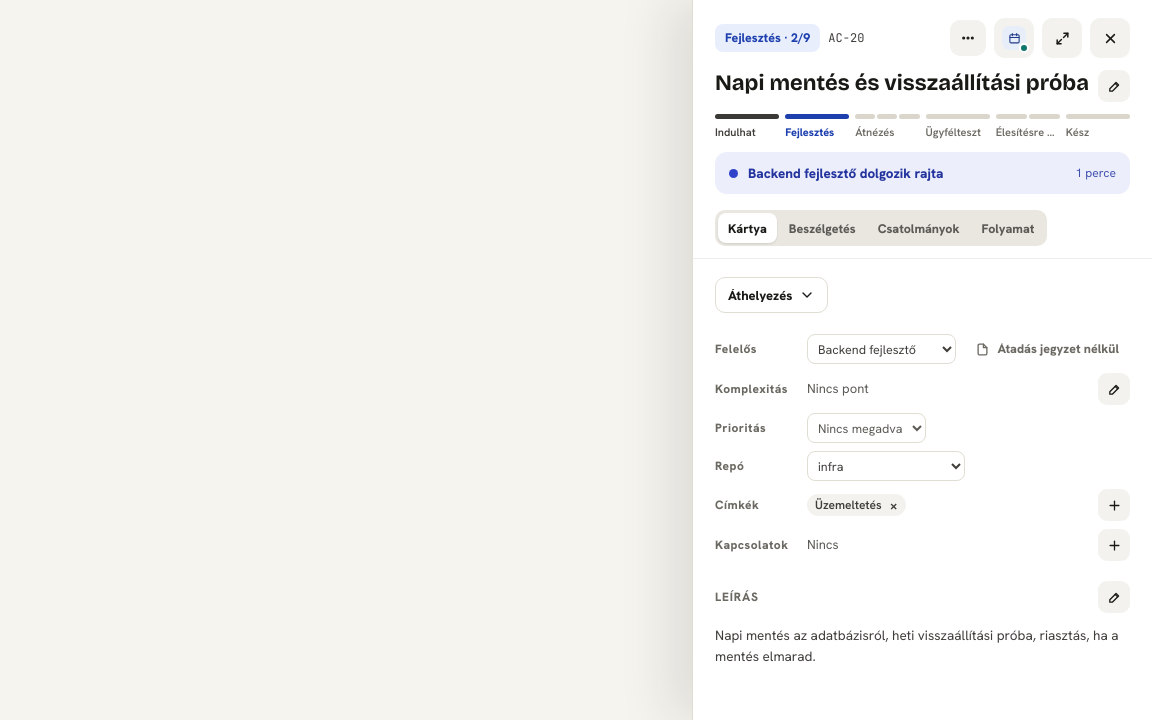
Scenario: the handoff note window (PM-342) › tells why there was no note, with the summary kept as plain text
The image size is (1152, 720).
Click the button "Átadás jegyzet nélkül".
click(1047, 349)  # box [964,333,1130,365]
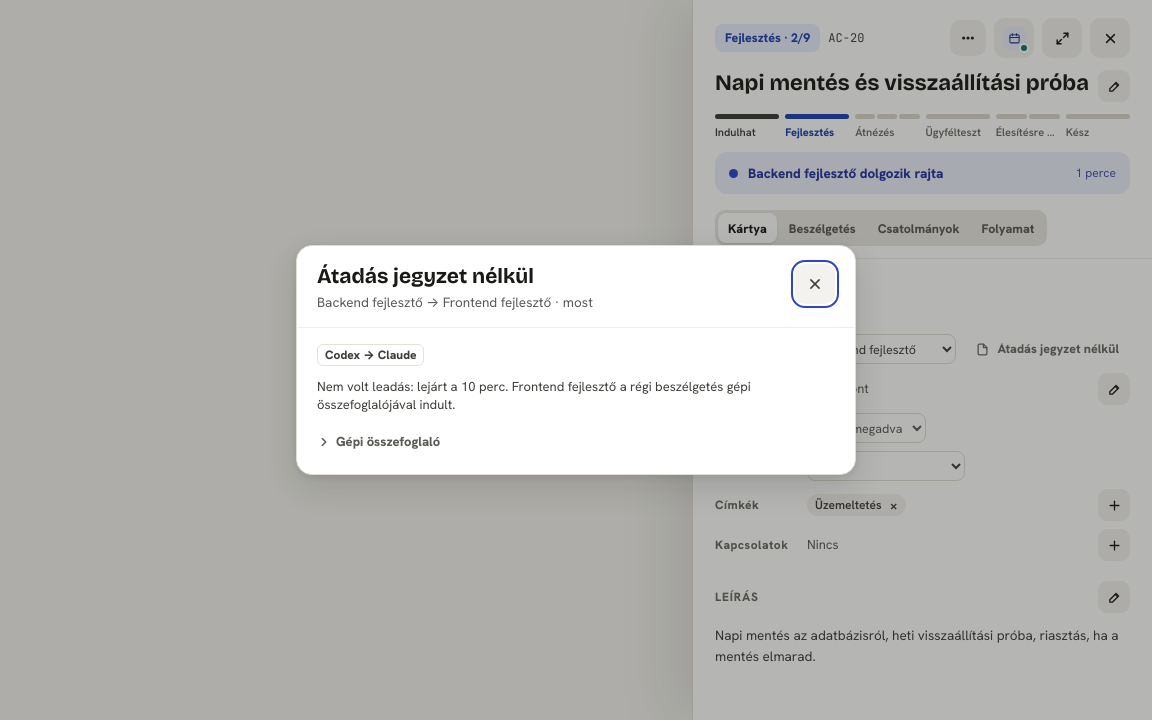
Expected: the heading "Gépi összefoglaló" is shown, [317,433,440,450]
Expected: the text "Nem volt leadás: lejárt a 10 perc." is shown, [317,378,508,395]
Expected: the text "gépi összefoglalójával indult" is shown, [317,378,751,413]
